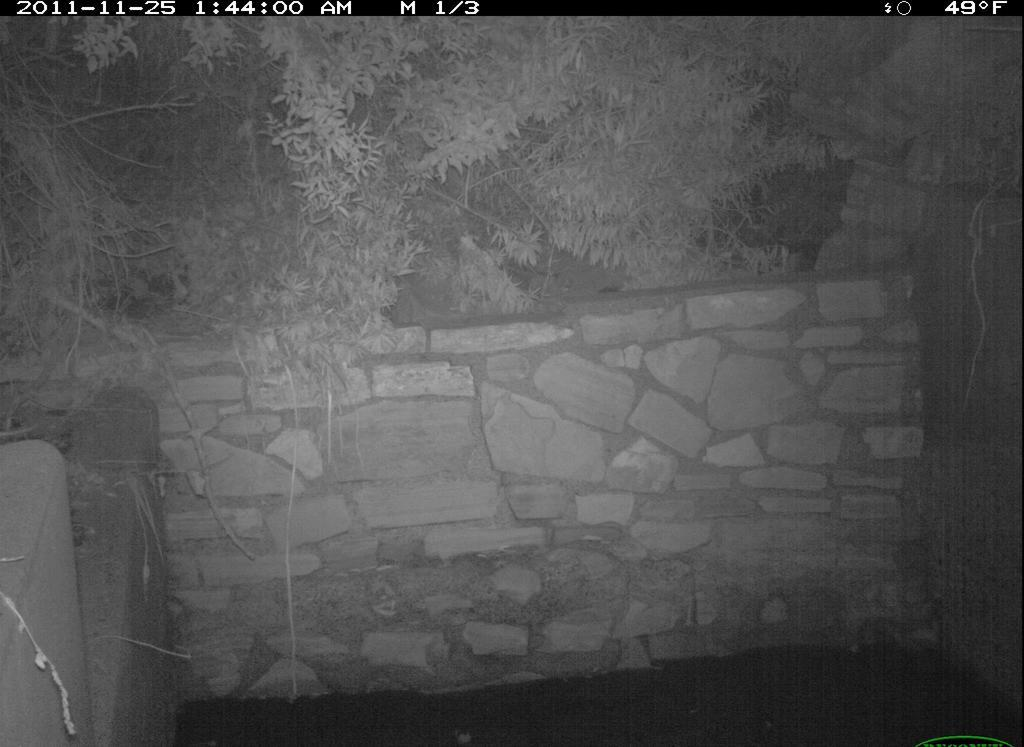rodent: (1, 419, 46, 445)
